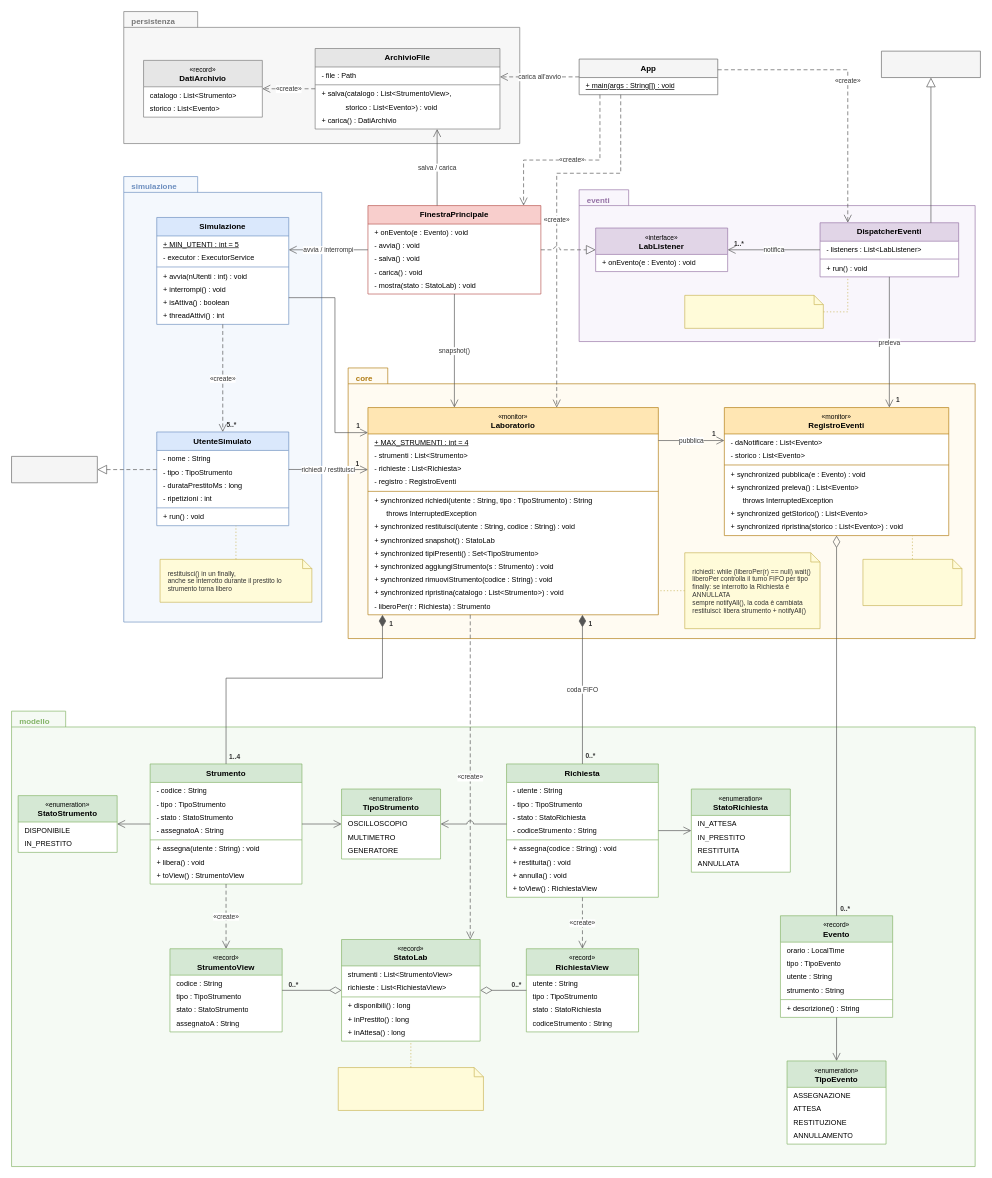
This 992x1178 diagram has some shape labels left out. The centre of each missing label's shape, as x and y in pixels:
"contiene solo copie immutabili, GUI non tocca mai lo stato interno del monitor" belongs at pixel 410 1088.
"listener chiamati fuori dai lock" belongs at pixel 753 311.
"ordine dei lock non invertibile Laboratorio -> RegistroEventi" belongs at pixel 912 582.
"«interface» Runnable" belongs at pixel 54 469.
"«java.lang» Thread" belongs at pixel 930 64.
